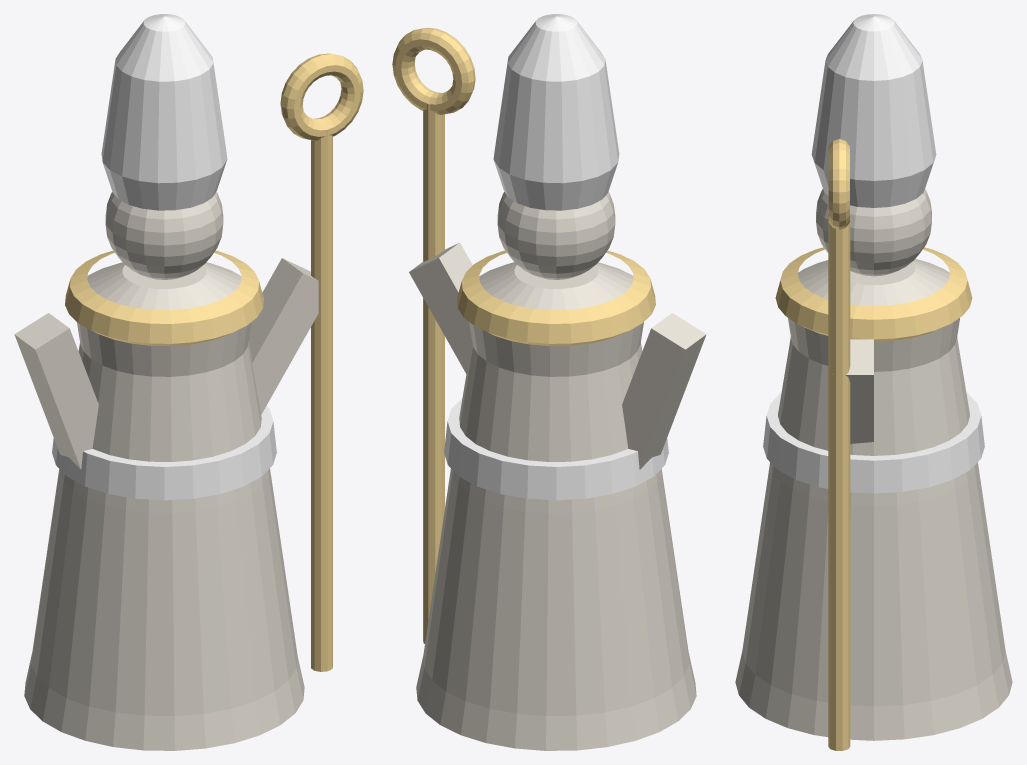
File: god.glb
3 renders of one model, left to right at view 1: azimuth 30°, elevation 25°; view 2: azimuth 150°, elevation 25°; view 3: azimuth 270°, elevation 25°, orthographic.
Visible parts, largest first — view 1: figurka; view 2: figurka; view 3: figurka.
Part boxes in pixels (left/top/right/bottom): figurka: left=14, top=14, right=363, bottom=750; figurka: left=392, top=14, right=706, bottom=750; figurka: left=735, top=14, right=1012, bottom=750.
Size of the model in its own units: 0.5253 by 1.06 by 0.4.
